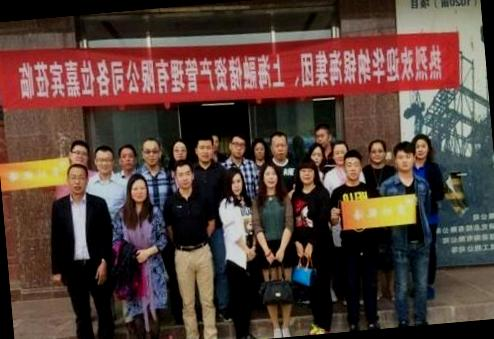no_helmet: (124, 168, 154, 210), (61, 160, 94, 197), (190, 126, 219, 166), (220, 164, 250, 201), (290, 154, 319, 191), (169, 156, 196, 194), (62, 137, 92, 171), (89, 140, 117, 176), (138, 133, 165, 169), (409, 130, 437, 164), (392, 138, 419, 173), (258, 157, 285, 192), (222, 129, 249, 163), (266, 126, 292, 161), (362, 136, 390, 168), (339, 150, 367, 180), (114, 140, 139, 172), (167, 134, 192, 163), (312, 120, 333, 148), (330, 138, 350, 166), (308, 140, 328, 168), (251, 136, 270, 162)
